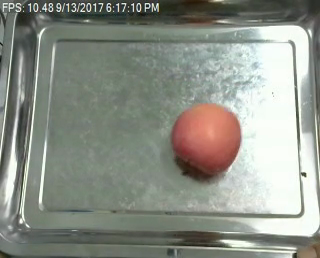Apple: (170, 103, 243, 175)
